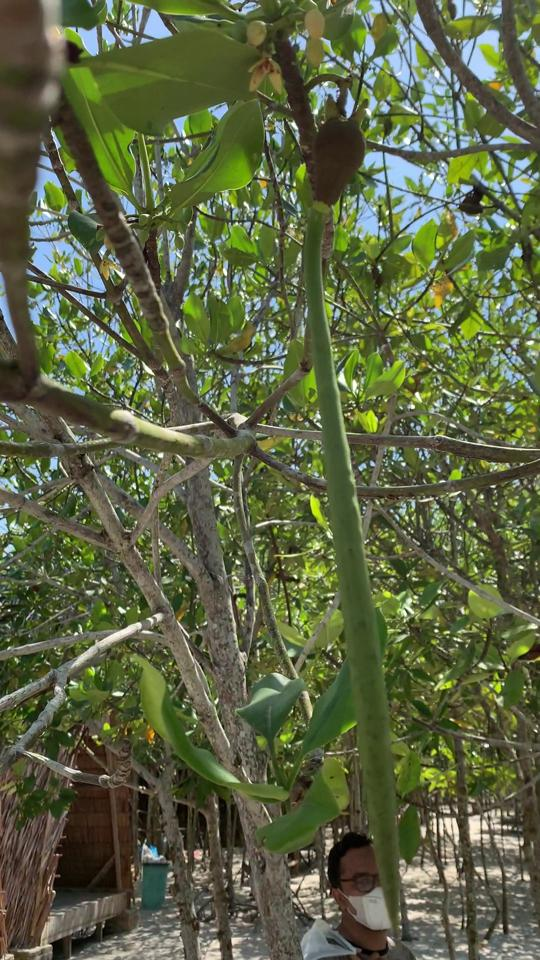setengah matang: (291, 89, 409, 948)
